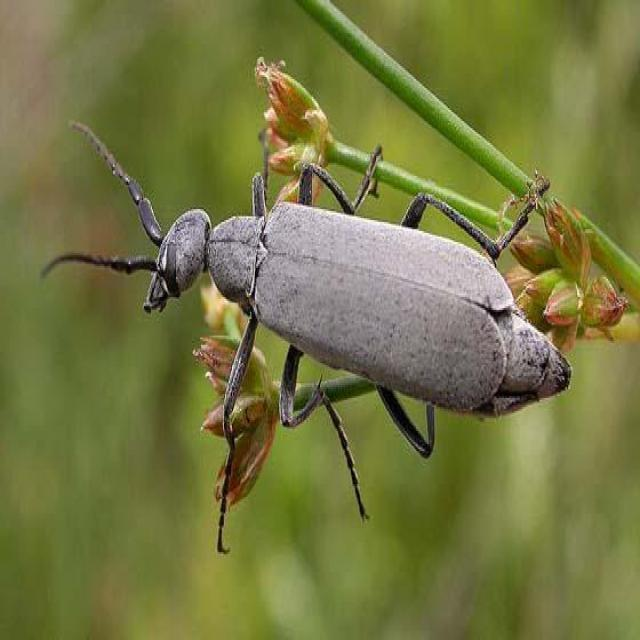BlisterBeetle-Adult-: (18, 97, 577, 522)
